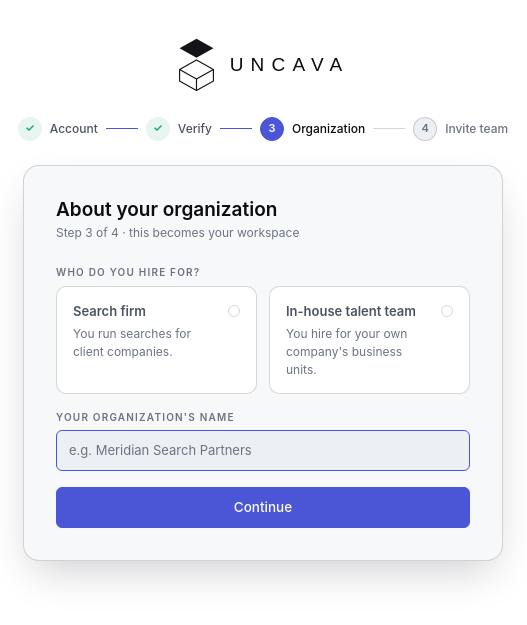
WorkspaceStepPage — the firm types its own name, and a market match is optional › refuses to continue until the firm says who it hires for, and has a name
Click the button "Continue" at (263, 508), box [56,487,470,528]
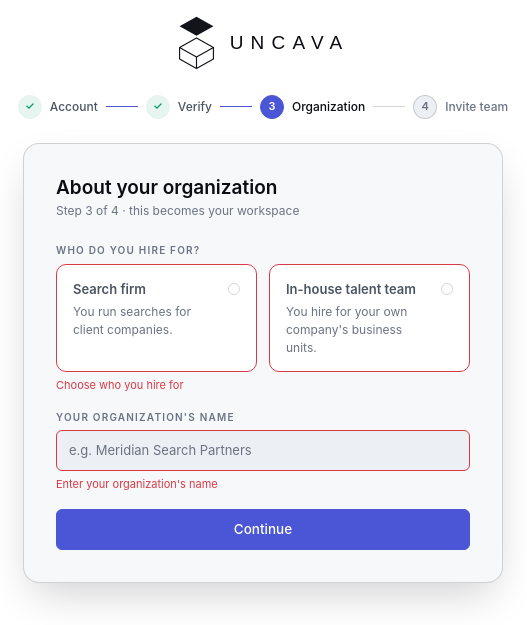
expect the text "Choose who you hire for" is shown: met, box [56,378,184,392]
expect the text "Enter your organization's name" is shown: met, box [56,477,218,491]
